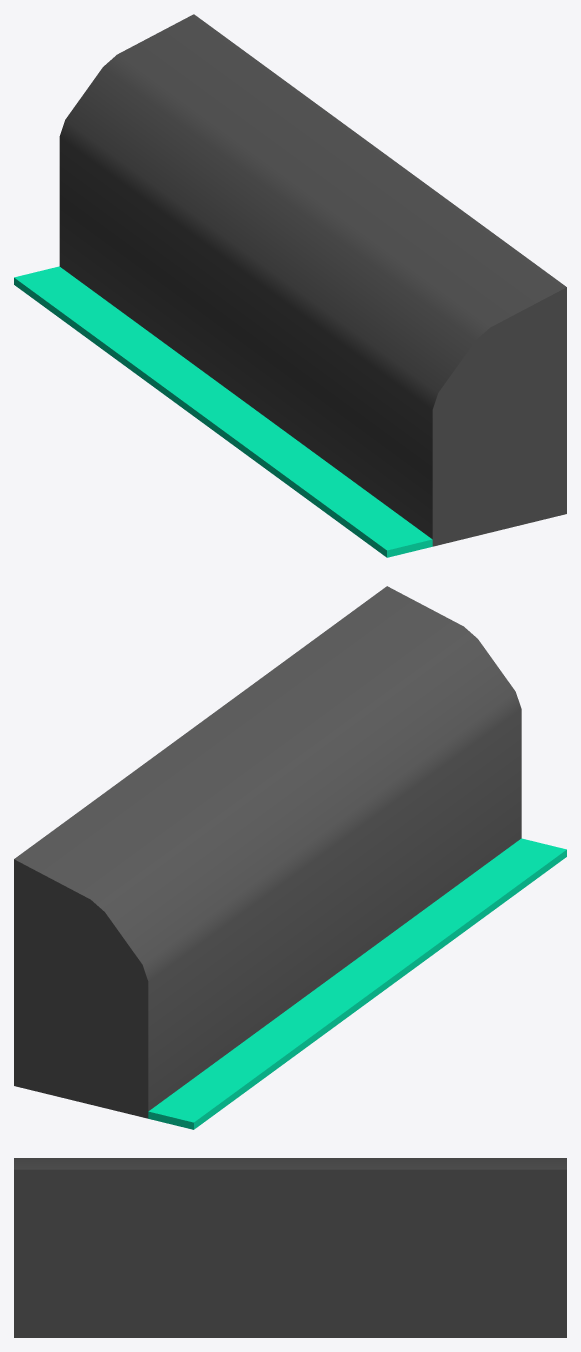
The model's file is CorridorDownPillar_01.fbx.
The picture shows the model from 3 angles, top to bottom: view 1: azimuth 30°, elevation 25°; view 2: azimuth 150°, elevation 25°; view 3: azimuth 270°, elevation 25°; orthographic projection. The views are drawn at different scales.
Visible parts, largest first — view 1: Box029, CorridorDownPillar_01; view 2: Box029, CorridorDownPillar_01; view 3: Box029.
Part boxes in pixels (x1,y1,x2,y2): Box029: [59, 14, 566, 546]; CorridorDownPillar_01: [14, 266, 432, 557]; Box029: [14, 586, 521, 1118]; CorridorDownPillar_01: [148, 838, 566, 1129]; Box029: [14, 1158, 566, 1337].
Size of the model in its own units: 32.88 by 118 by 39.61.
